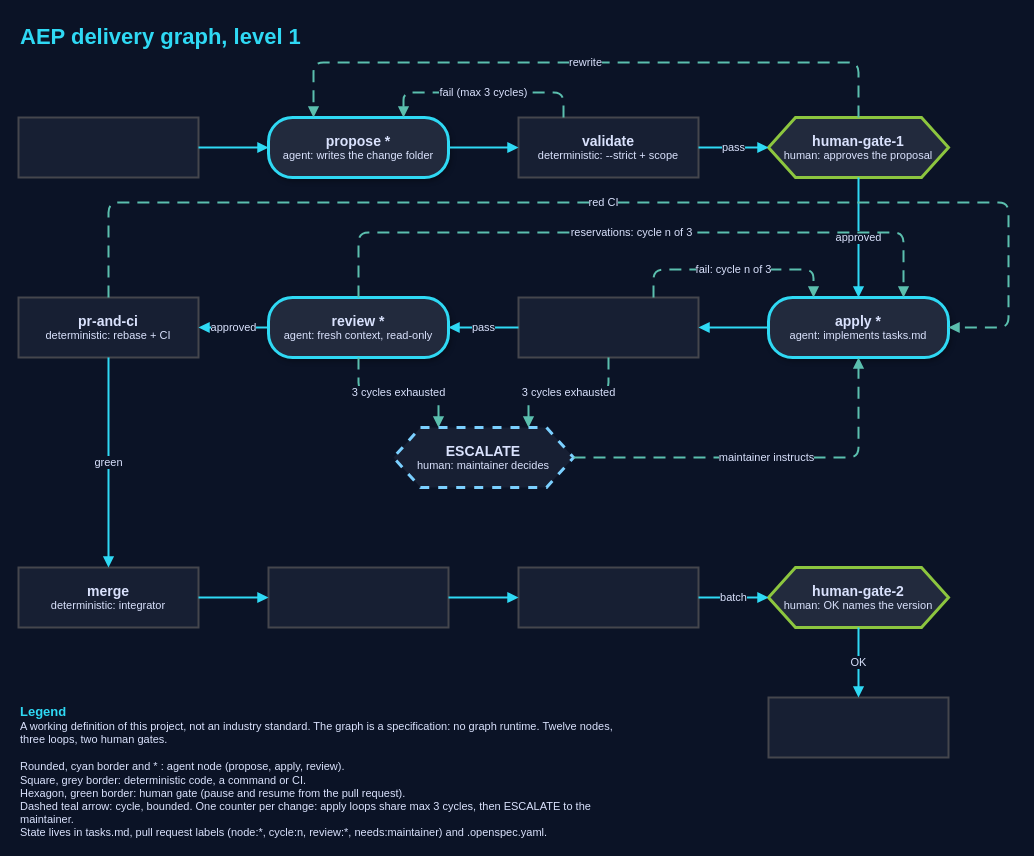
Some shapes in this 1034 by 856 pixel diagram are drawn without their labels. Here are the shapes that lost their labels. From the top down, the centre of each, then its label:
At (x=108, y=147): "explore optional, writes nothing".
At (x=608, y=327): "test-and-validate deterministic: checks".
At (x=358, y=597): "archive deterministic: openspec archive".
At (x=608, y=597): "release-queue deterministic: git log".
At (x=858, y=727): "release change bump + tag v* + npm publish".
